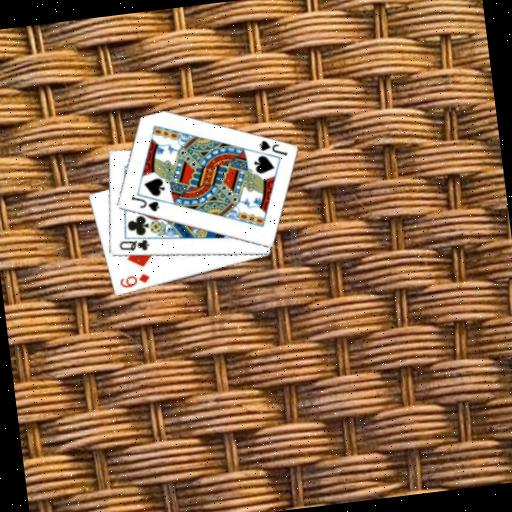6D: (116, 270, 152, 291)
JS: (127, 190, 161, 217), (255, 135, 289, 161)
QC: (116, 235, 151, 256)
